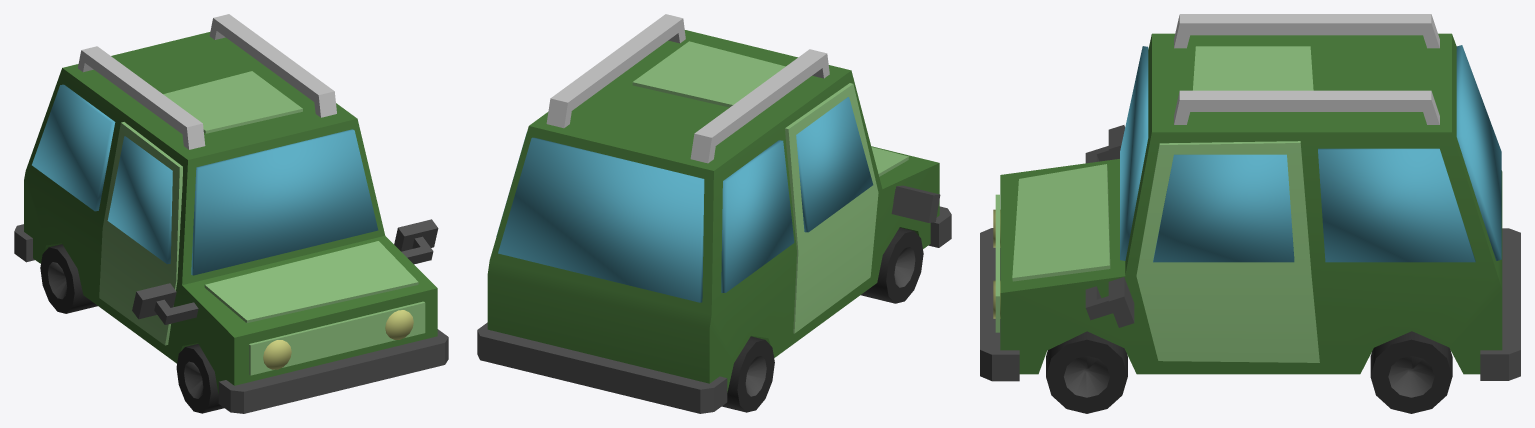
Rendered from Sedan_v2.fbx.
The picture shows the model from 3 angles, left to right: view 1: azimuth 30°, elevation 25°; view 2: azimuth 150°, elevation 25°; view 3: azimuth 270°, elevation 25°; orthographic projection. The views are drawn at different scales.
Parts seen in each view (by area): view 1: Sedan_v2, Polygon, Объект_Цилиндр; view 2: Sedan_v2, Polygon; view 3: Sedan_v2, Polygon.
Boxes of the visible parts, x1,y1,x2,y2 form: Sedan_v2: [14, 14, 448, 413]; Polygon: [99, 122, 182, 345]; Объект_Цилиндр: [263, 310, 413, 369]; Sedan_v2: [477, 14, 951, 413]; Polygon: [785, 83, 878, 333]; Sedan_v2: [980, 14, 1520, 413]; Polygon: [1136, 141, 1319, 362].
Size of the model in its own units: 248 by 199 by 330.
